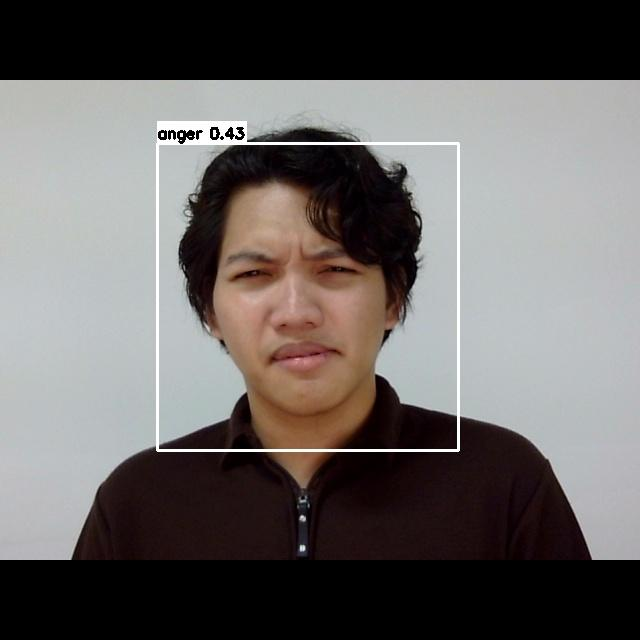Disgust: (212, 230, 404, 385)
